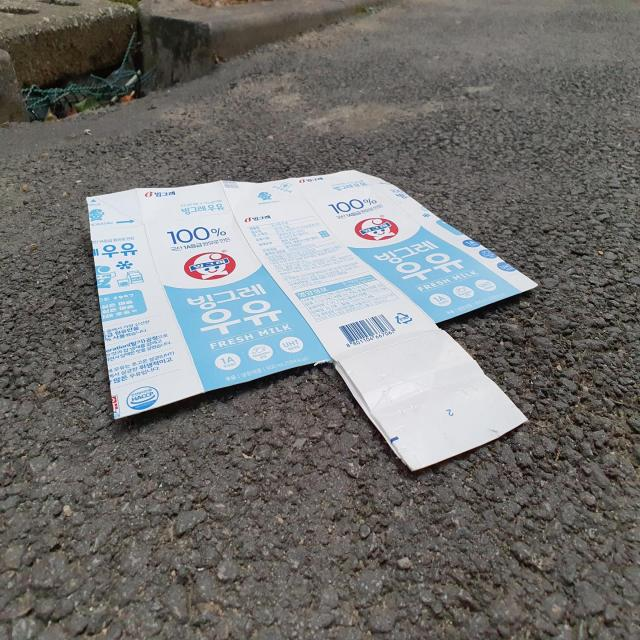paperpack: (87, 170, 537, 471)
